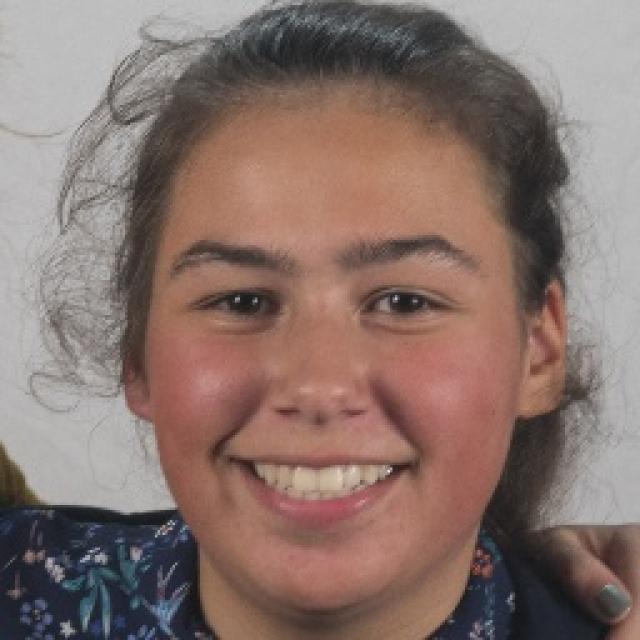earlobe: (519, 282, 571, 420), (121, 318, 151, 424)
